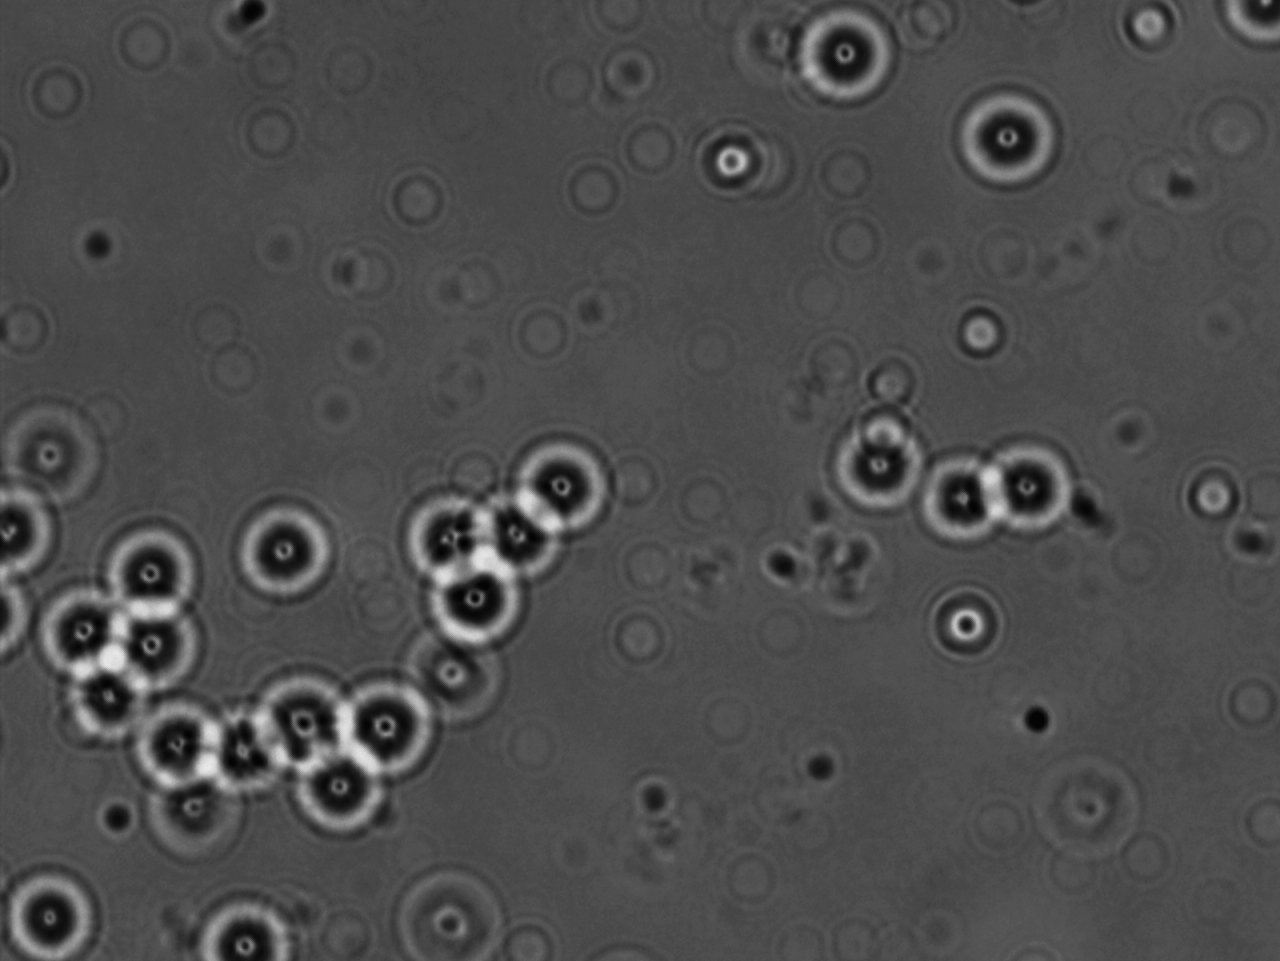depth:-8: (951, 76, 1079, 207), (499, 420, 635, 538), (218, 487, 345, 611), (390, 603, 517, 725), (93, 513, 217, 630), (898, 433, 1009, 560), (95, 592, 212, 711), (790, 0, 913, 113), (195, 684, 312, 800), (815, 402, 929, 521), (335, 669, 453, 780), (108, 691, 229, 799), (472, 473, 586, 585), (400, 483, 510, 599), (242, 662, 357, 771), (289, 735, 405, 841), (420, 551, 536, 653), (980, 436, 1088, 543), (30, 575, 134, 673), (189, 875, 299, 961)
